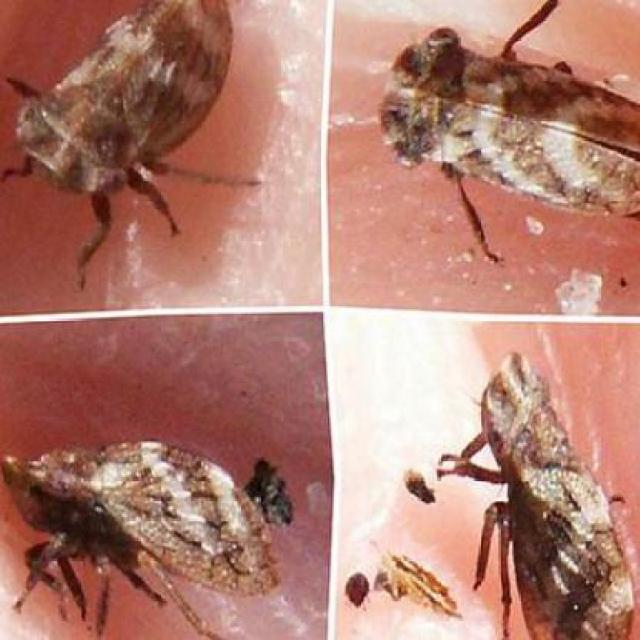brown-planthopper: (0, 426, 271, 640), (0, 0, 231, 246), (378, 22, 640, 230), (466, 341, 628, 640)
